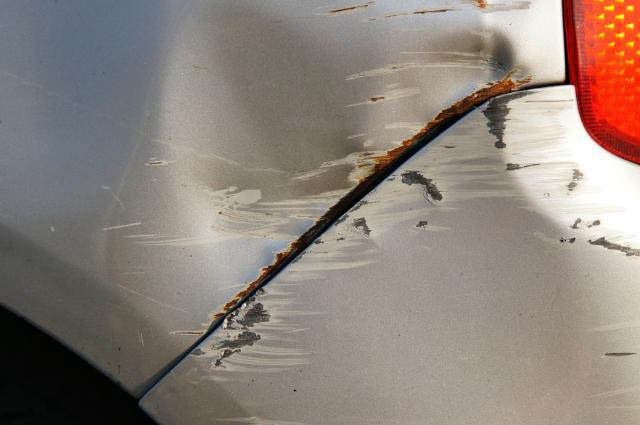Bumper: (134, 86, 640, 425)
Fender: (29, 0, 568, 416)
